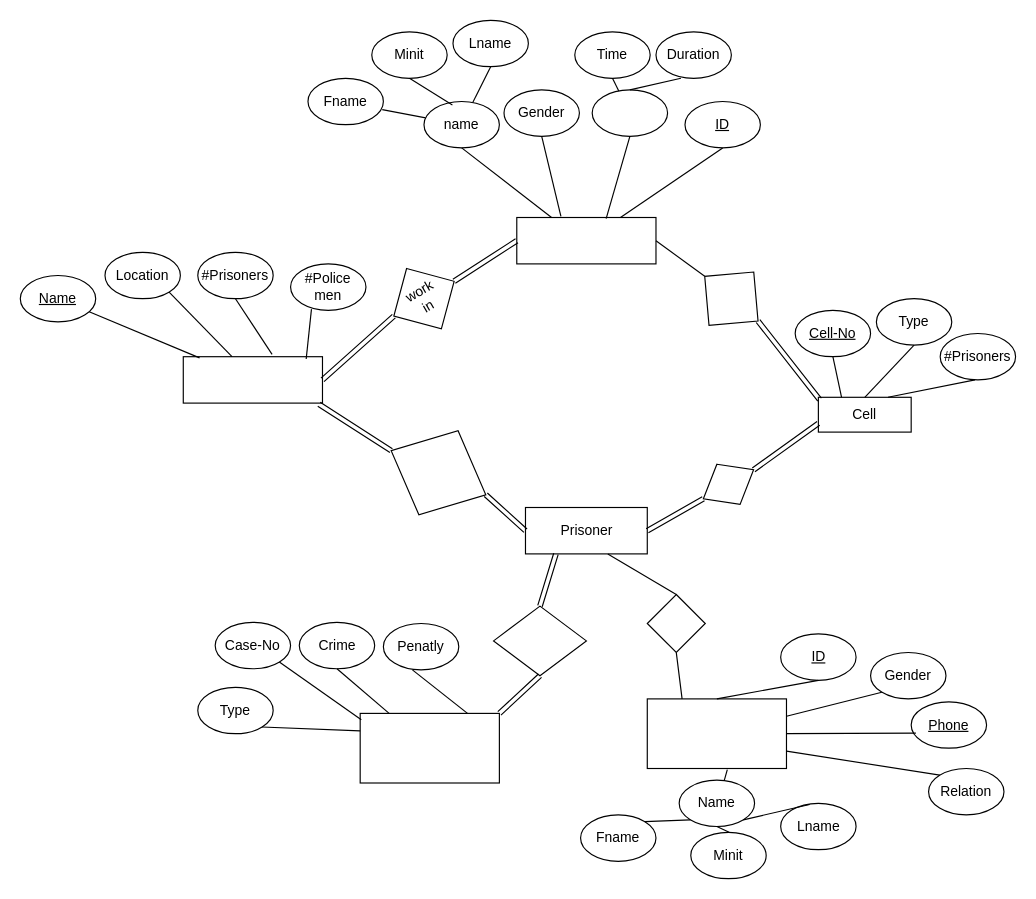
The diagram is 1036 pixels wide and 899 high, and some of its shapes have lost their labels. The centre of each missing label's shape, as x and y in pixels:
Case: point 429,747
charged in: point 539,640
imprisoned in: point 438,472
in: point 727,483
Police man: point 586,240
Prison: point 252,379
Shift: point 629,112
visit: point 675,622
Visitor: point 716,733
watch: point 731,298
